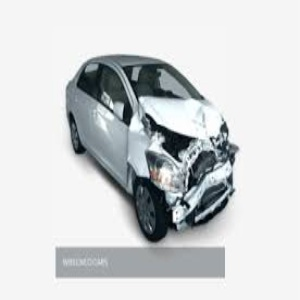bonnet: (146, 101, 226, 140)
bumper: (169, 174, 234, 227)
